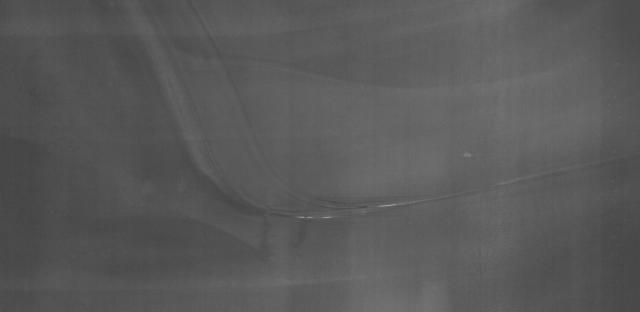crease: (171, 70, 568, 246)
